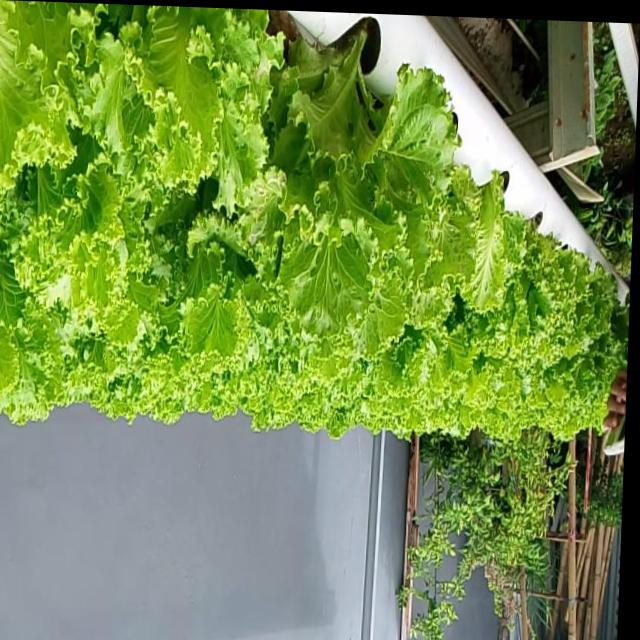Mature: (0, 1, 630, 450), (252, 19, 471, 351), (483, 208, 592, 373)
